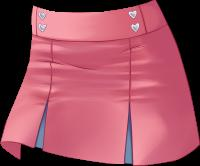Hemline: (0, 98, 199, 165)
Waistline: (31, 23, 167, 41), (33, 0, 155, 13)
